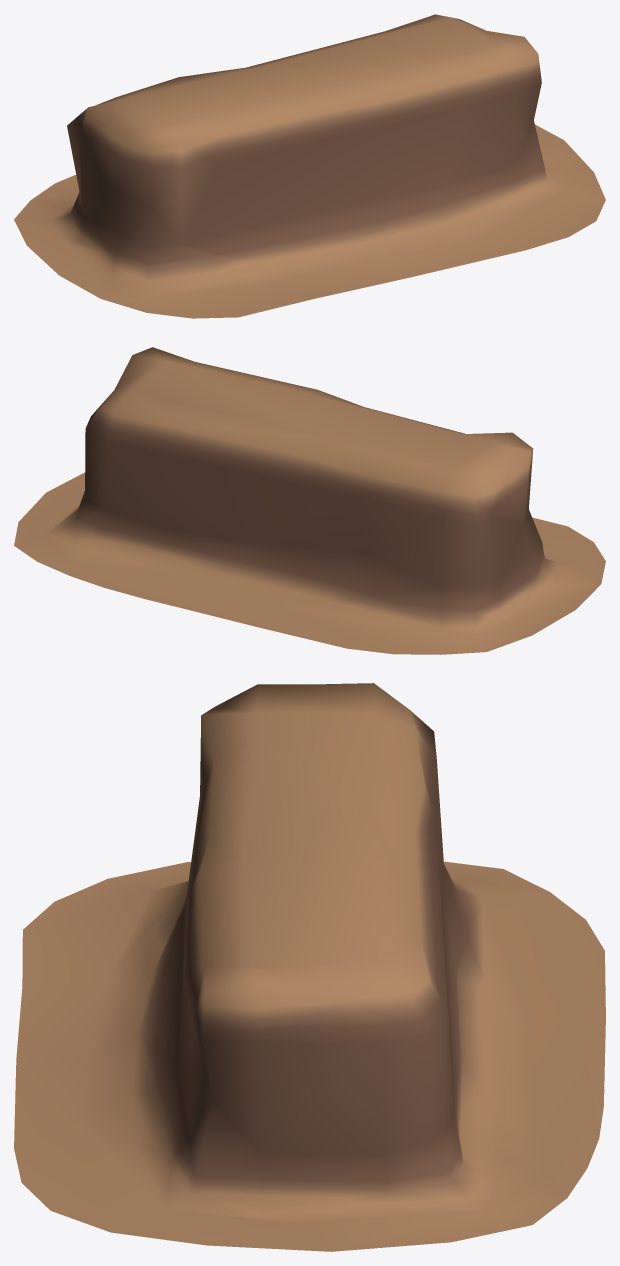
Rendered from Mines Model 16 M.glb.
3 views of the same model, one above another, from view 1: azimuth 30°, elevation 25°; view 2: azimuth 150°, elevation 25°; view 3: azimuth 270°, elevation 25° (orthographic). The views are drawn at different scales.
Visible parts, largest first — view 1: Mines Model 16 M; view 2: Mines Model 16 M; view 3: Mines Model 16 M.
Boxes of the visible parts, bbox=[...] form: Mines Model 16 M: bbox=[14, 14, 605, 318]; Mines Model 16 M: bbox=[14, 347, 605, 654]; Mines Model 16 M: bbox=[14, 683, 605, 1251].
Size of what is drawn, in the model's own units: 18.42 by 4.71 by 11.6.
1 material, 1 textured.
